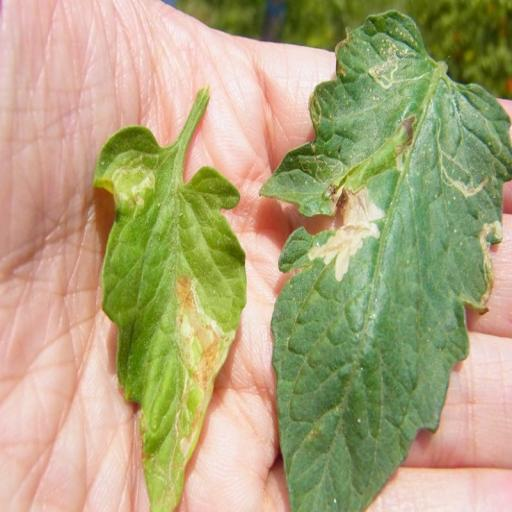disease_tomato: (260, 1, 512, 512), (92, 122, 243, 512)
